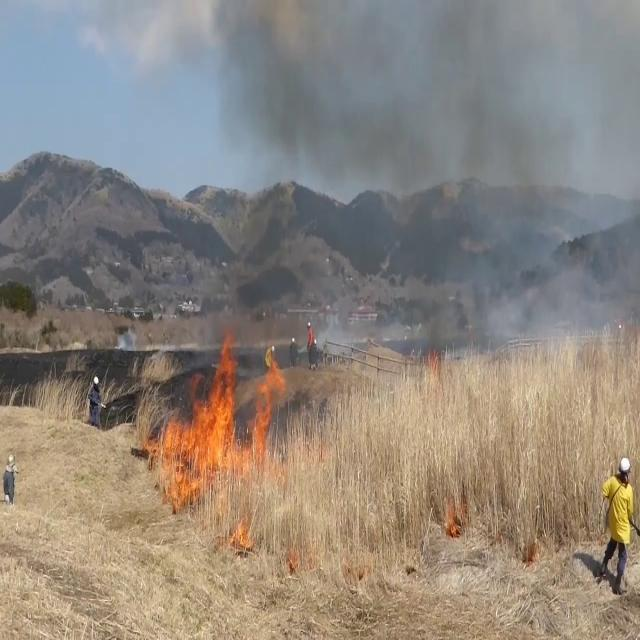Fire: (149, 326, 287, 496)
Smoke: (203, 0, 632, 358)
